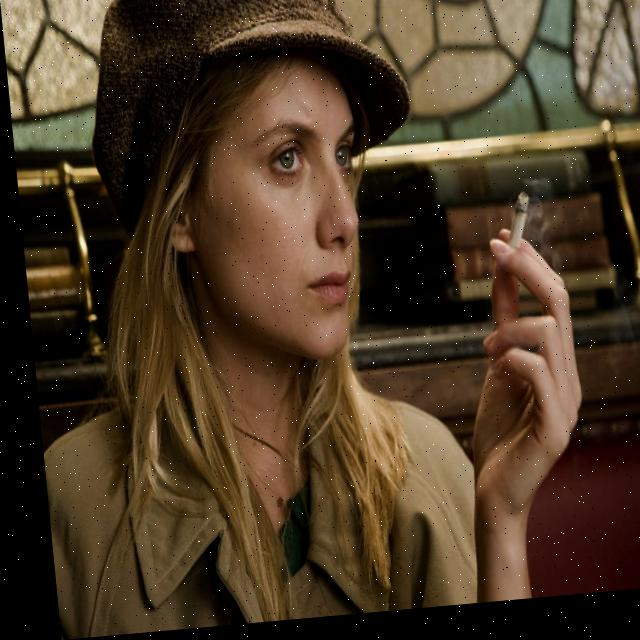cigarette: (496, 200, 530, 259)
